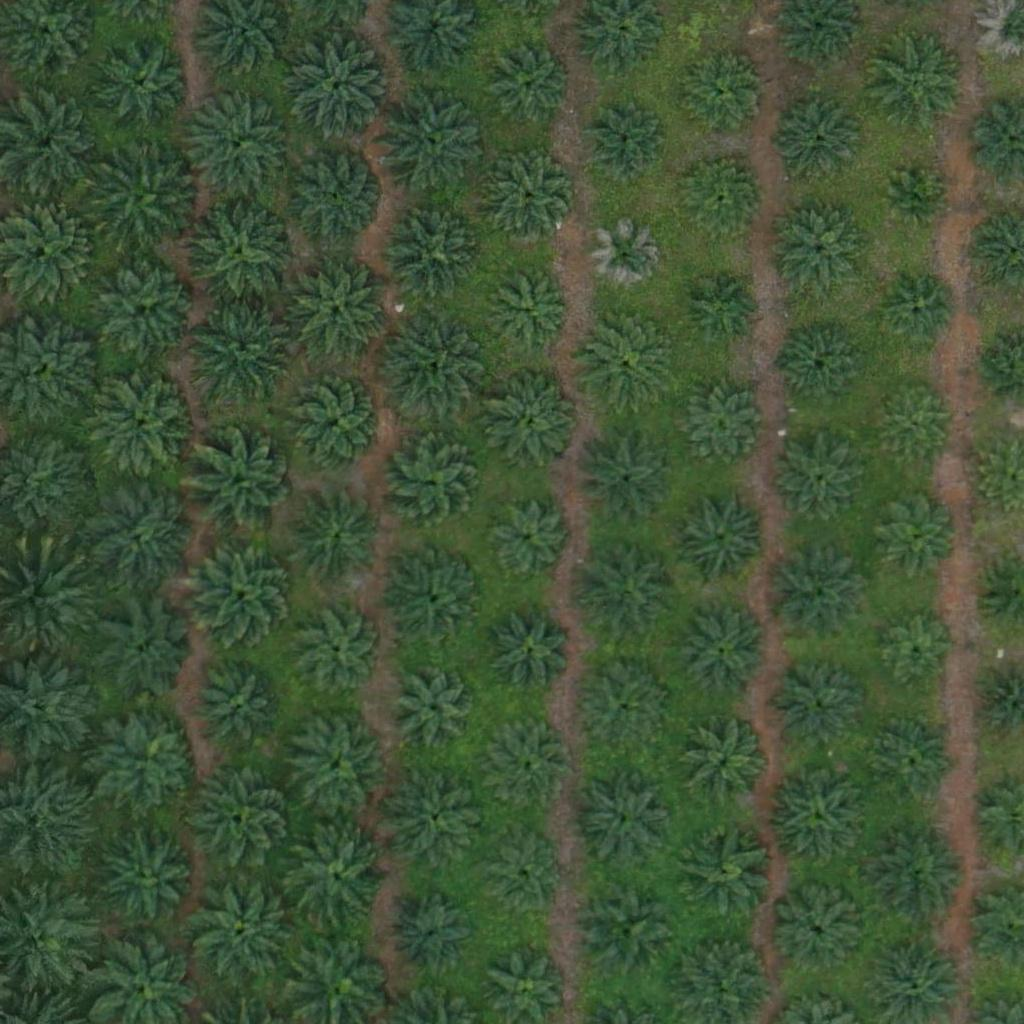Kelapa_Sawit: (90, 139, 203, 253), (182, 196, 295, 310), (190, 295, 303, 409), (377, 86, 490, 199), (184, 427, 297, 540), (186, 537, 299, 650), (180, 89, 292, 203), (377, 311, 489, 425), (284, 30, 396, 143), (185, 873, 297, 986), (97, 258, 197, 359), (383, 202, 483, 303), (581, 311, 681, 412), (764, 545, 864, 646), (669, 376, 769, 477), (669, 486, 769, 587), (575, 426, 675, 527), (388, 767, 488, 868), (286, 486, 386, 587), (287, 714, 387, 815), (287, 831, 387, 932), (191, 768, 291, 869), (90, 373, 190, 474), (87, 485, 187, 586), (96, 601, 196, 702), (97, 711, 197, 812), (94, 825, 194, 926), (578, 879, 678, 980), (95, 35, 195, 135), (287, 146, 387, 246), (289, 263, 389, 363), (870, 34, 970, 134), (867, 826, 967, 926), (767, 765, 867, 865), (673, 822, 773, 922), (578, 542, 678, 642), (573, 769, 673, 869), (483, 370, 583, 470), (382, 432, 482, 532), (386, 548, 486, 648), (286, 373, 386, 473), (677, 156, 765, 245), (779, 323, 867, 412), (775, 888, 863, 977), (678, 263, 766, 351), (680, 54, 768, 142), (872, 718, 960, 806), (774, 437, 862, 525), (773, 662, 861, 750), (486, 499, 574, 587), (195, 663, 283, 751), (870, 490, 957, 578), (484, 46, 571, 134), (487, 156, 574, 244), (775, 99, 862, 187), (776, 209, 863, 297), (678, 610, 765, 698), (681, 721, 768, 809), (581, 670, 668, 758), (393, 662, 480, 750), (295, 606, 382, 694), (493, 273, 568, 349), (495, 616, 570, 692), (493, 727, 568, 803), (396, 897, 471, 973), (883, 274, 958, 349), (881, 616, 956, 691), (587, 106, 662, 181), (589, 220, 664, 295), (875, 385, 950, 460), (485, 842, 560, 917), (885, 169, 948, 232)
